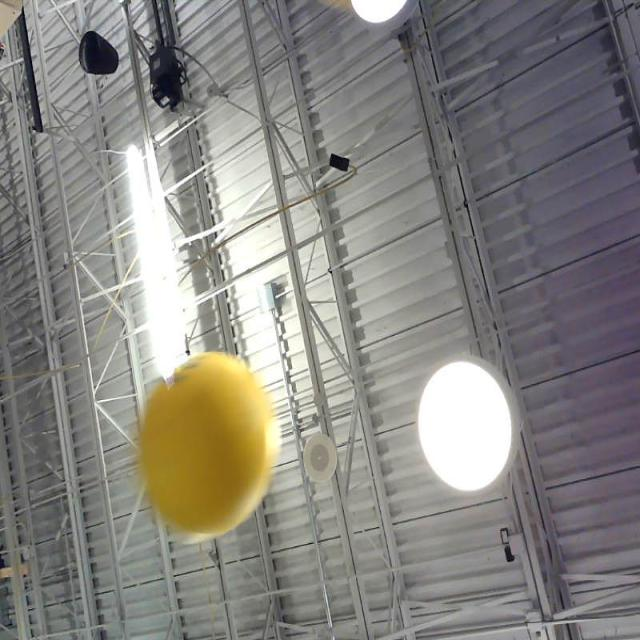Fuel: (140, 351, 270, 535)
